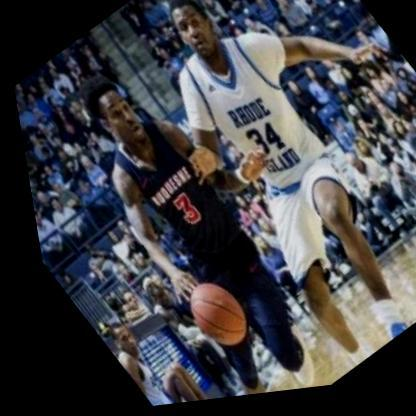basketball: (163, 270, 253, 366)
